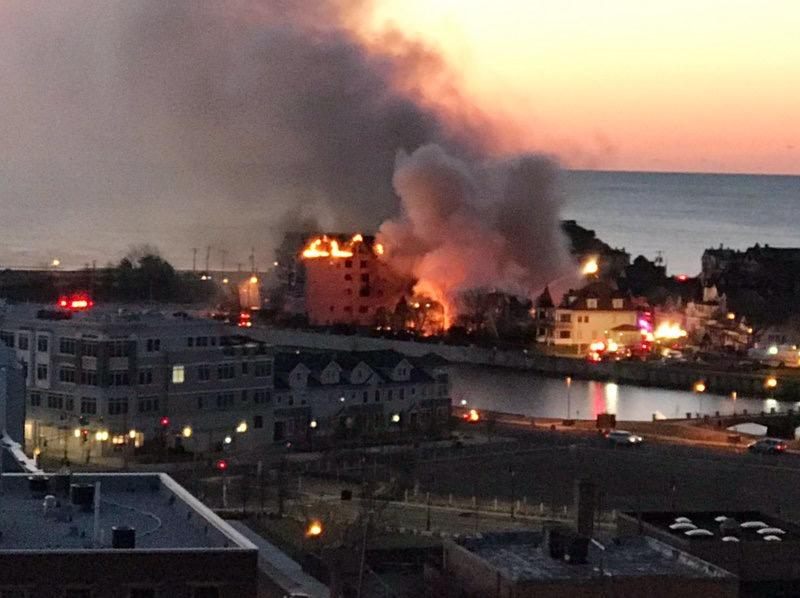Fire: (289, 220, 486, 345)
